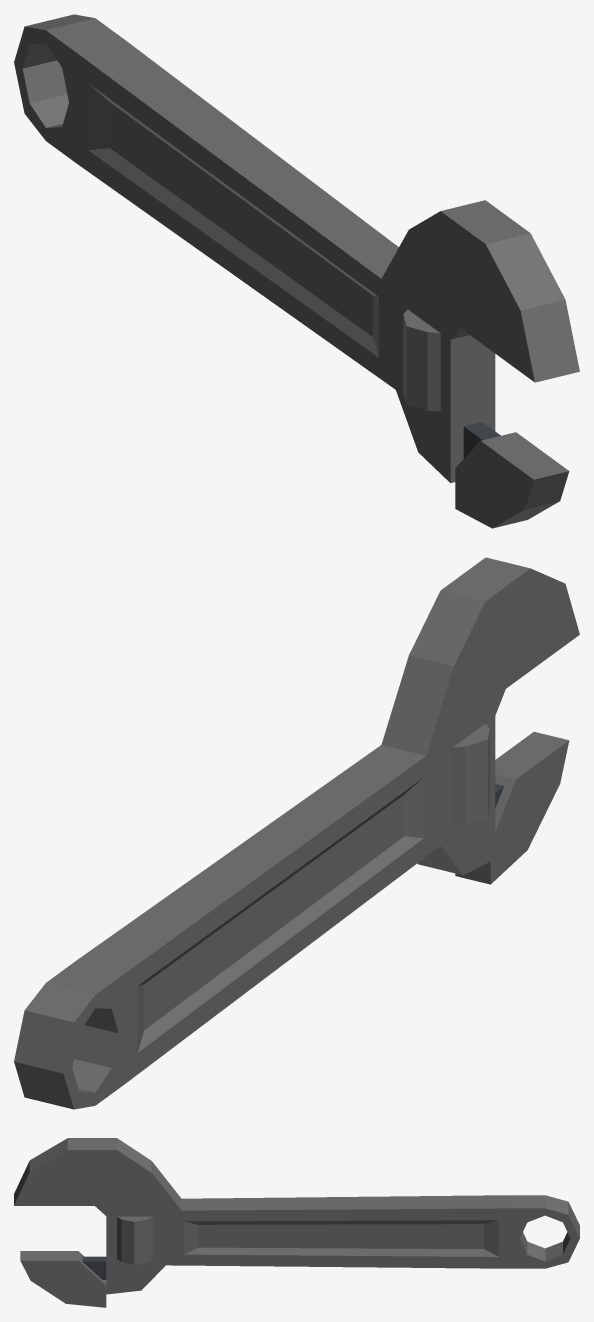
Rendered from SM_Item_Wrench_01.fbx.
3 views of the same model, one above another, from view 1: azimuth 30°, elevation 25°; view 2: azimuth 150°, elevation 25°; view 3: azimuth 270°, elevation 25° (orthographic). The views are drawn at different scales.
Parts seen in each view (by area): view 1: SM_Item_Wrench_01; view 2: SM_Item_Wrench_01; view 3: SM_Item_Wrench_01.
Boxes of the visible parts, x1,y1,x2,y2 form: SM_Item_Wrench_01: (14,14,579,528); SM_Item_Wrench_01: (14,557,579,1109); SM_Item_Wrench_01: (14,1138,579,1307).
Size of the model in its own units: 3.93 by 13.19 by 42.52.
